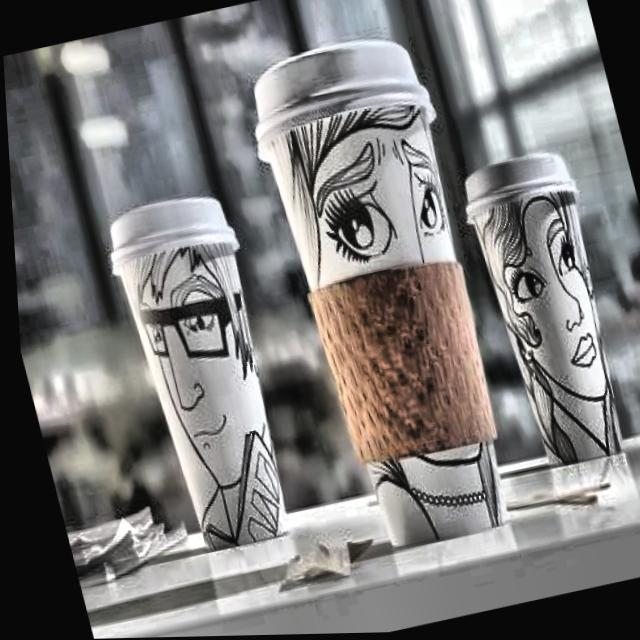Cup: (249, 78, 521, 562), (96, 197, 298, 561), (459, 181, 640, 494)
